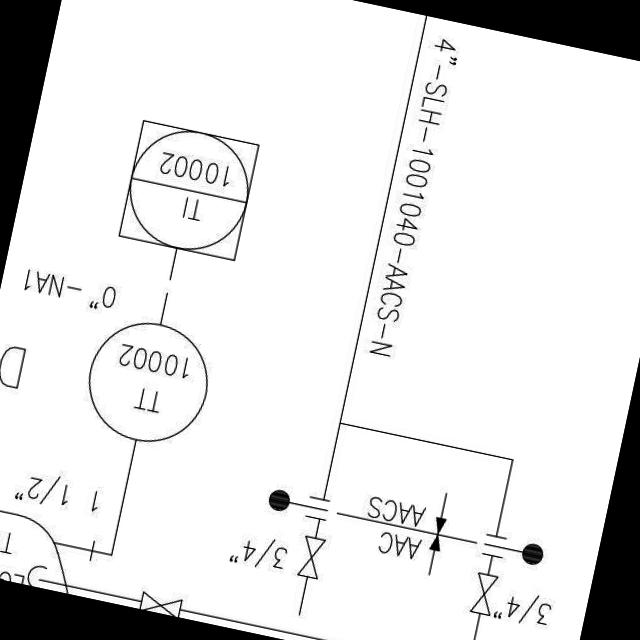GV: (292, 530, 330, 584), (467, 568, 502, 620), (137, 589, 186, 618)
